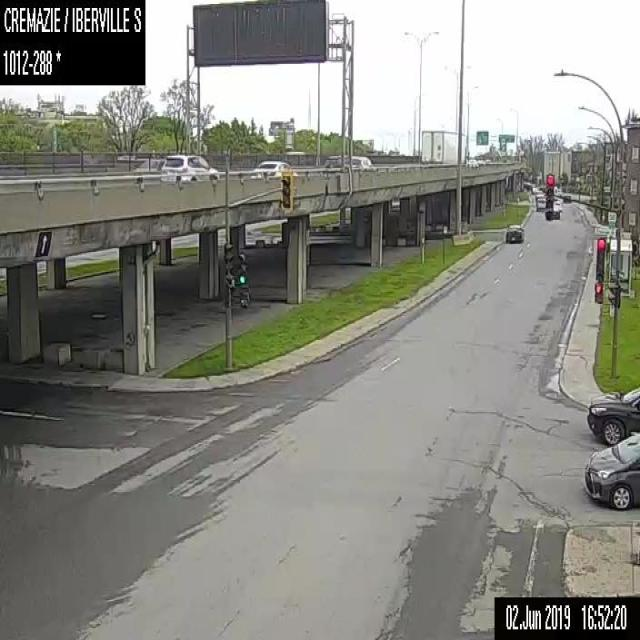vehicle: (583, 428, 639, 510), (586, 382, 639, 444), (160, 153, 220, 183), (420, 129, 468, 165), (251, 158, 298, 178), (134, 156, 165, 174), (504, 222, 524, 242), (322, 153, 341, 172), (352, 154, 372, 170), (536, 197, 546, 210), (552, 204, 560, 219), (534, 189, 544, 200), (552, 200, 562, 210), (466, 158, 478, 166), (530, 184, 538, 193), (477, 157, 486, 165), (553, 185, 557, 195), (553, 193, 556, 200)
